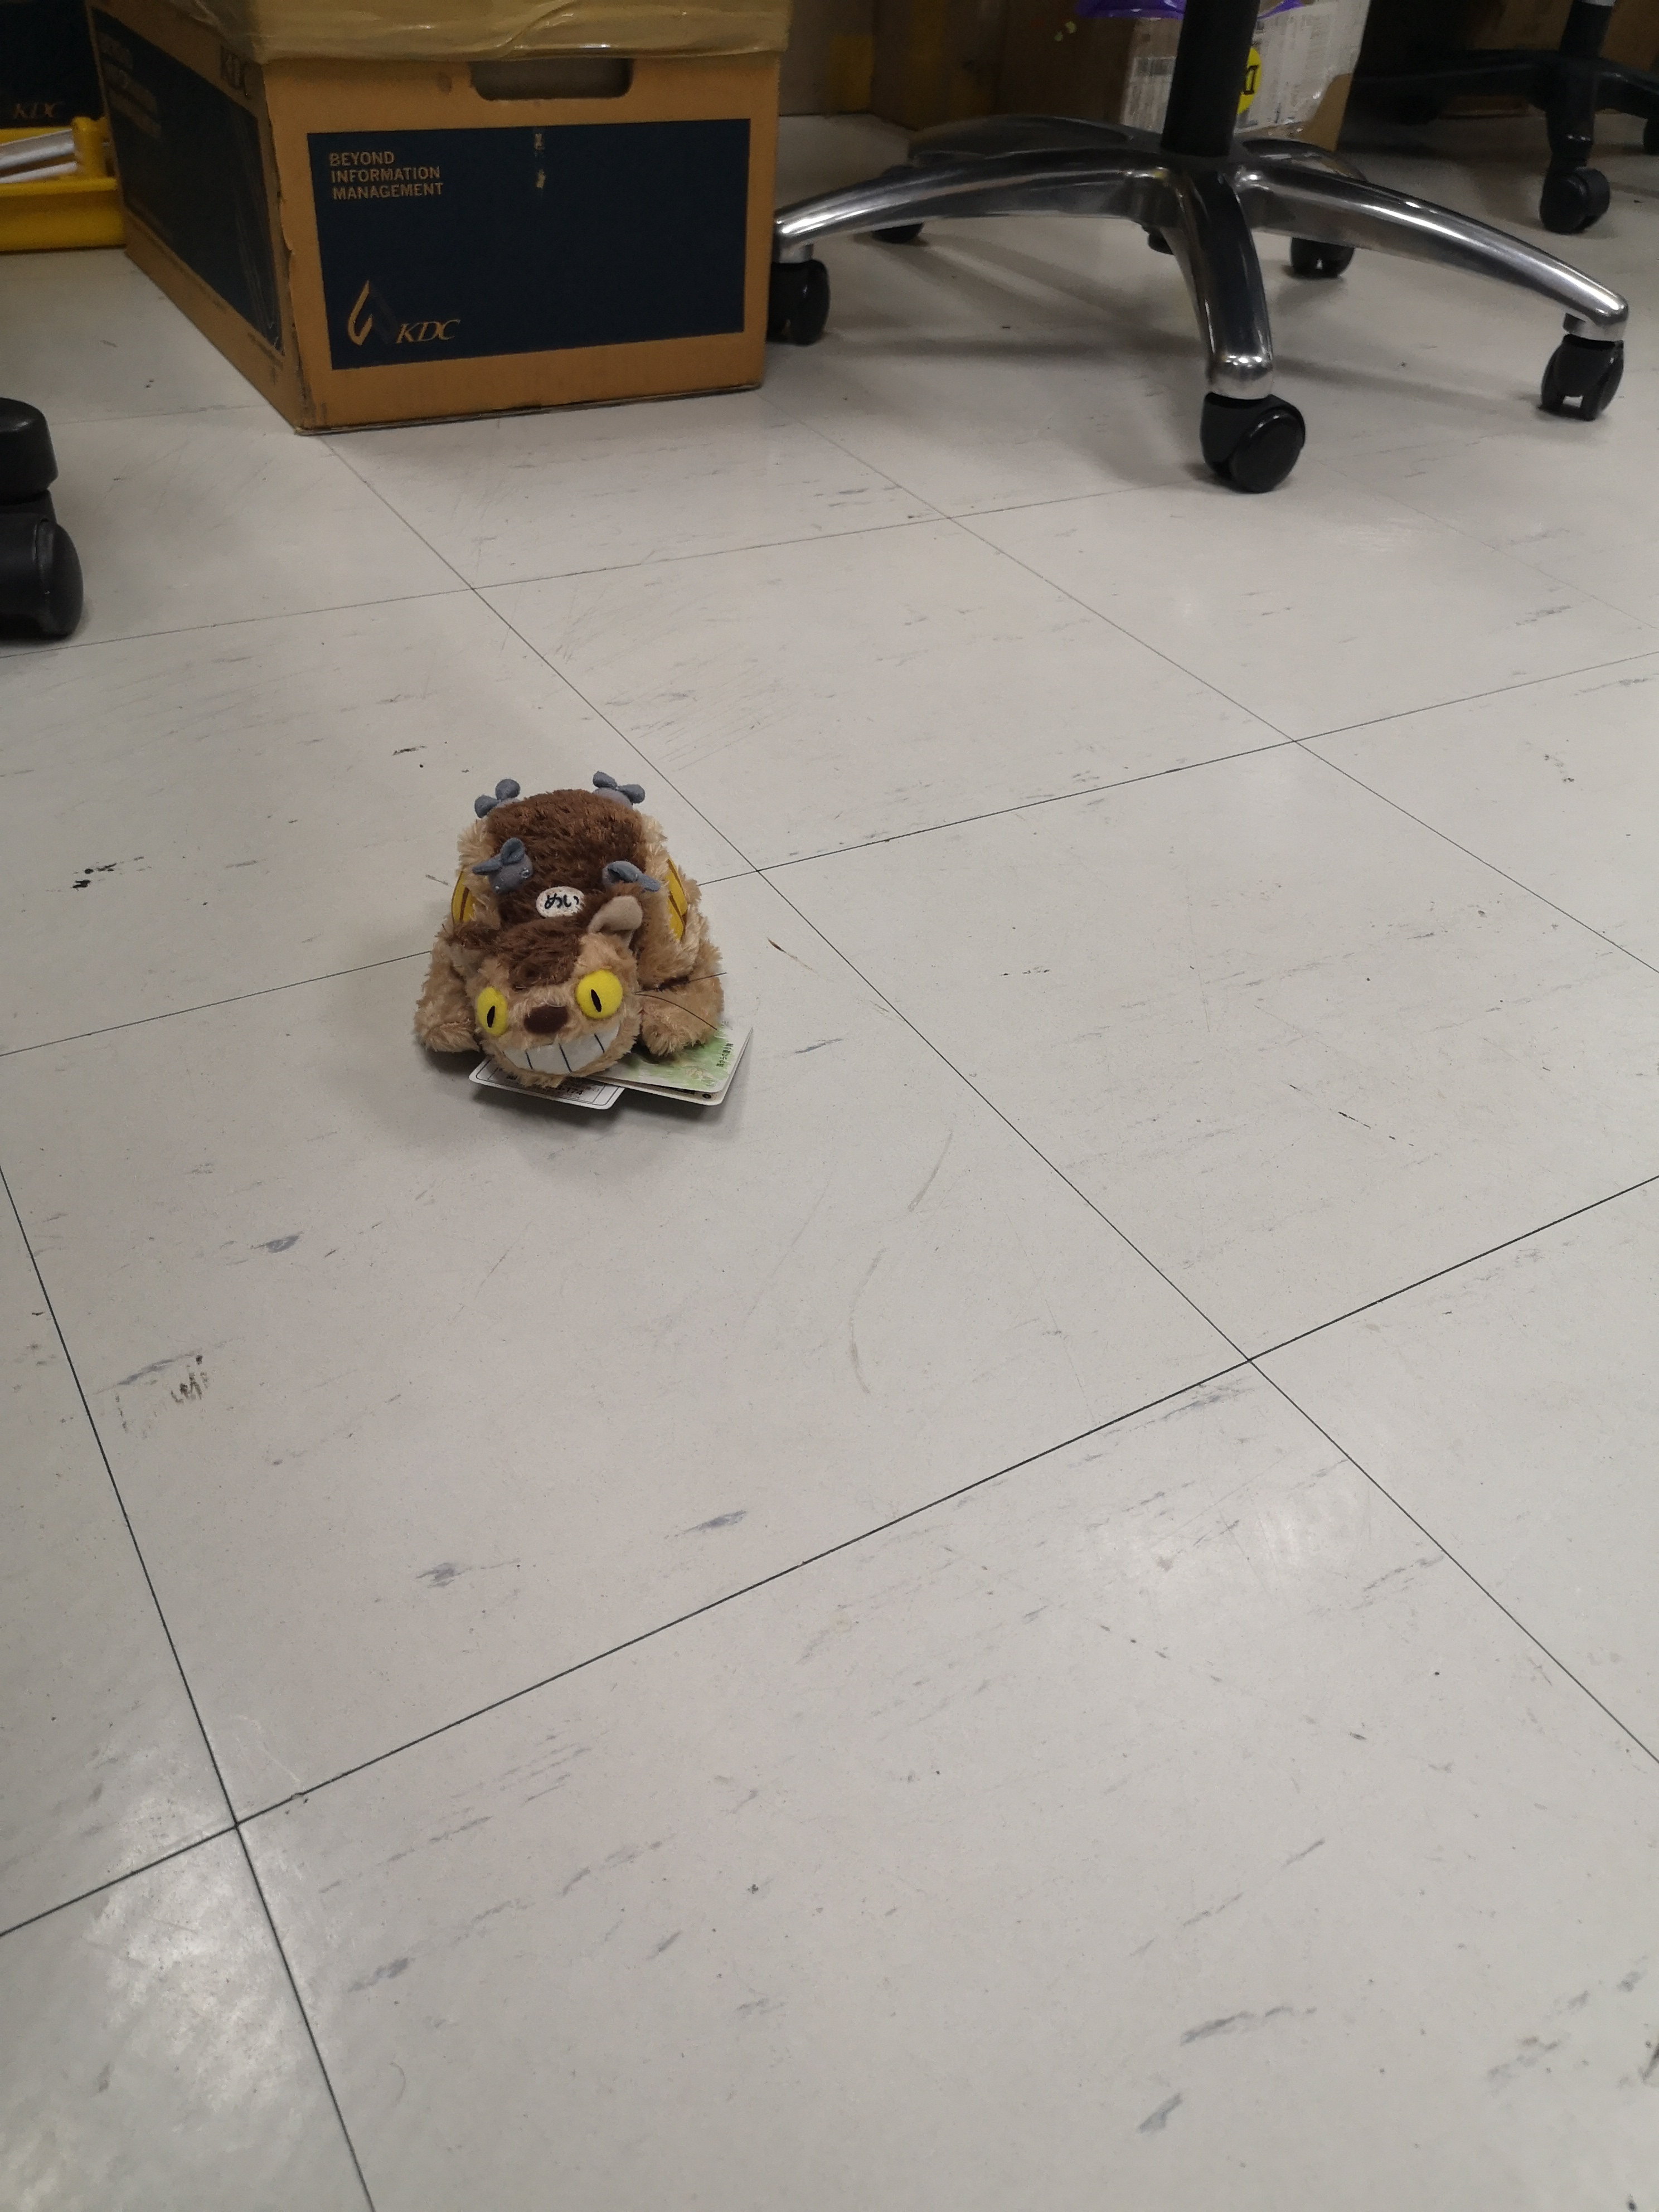nekobus: (404, 772, 751, 1129)
